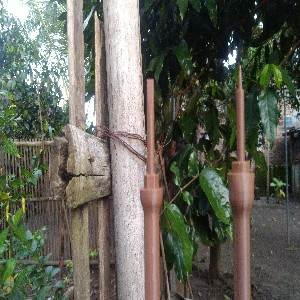obeng: (139, 78, 165, 300)
solder: (226, 64, 256, 300)
